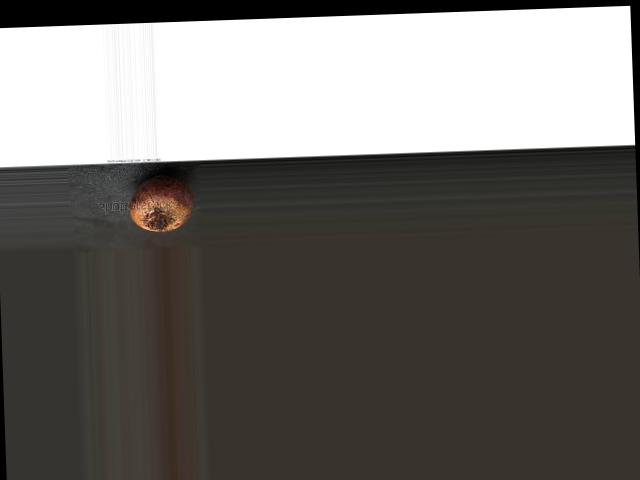beet: (129, 174, 196, 232)
